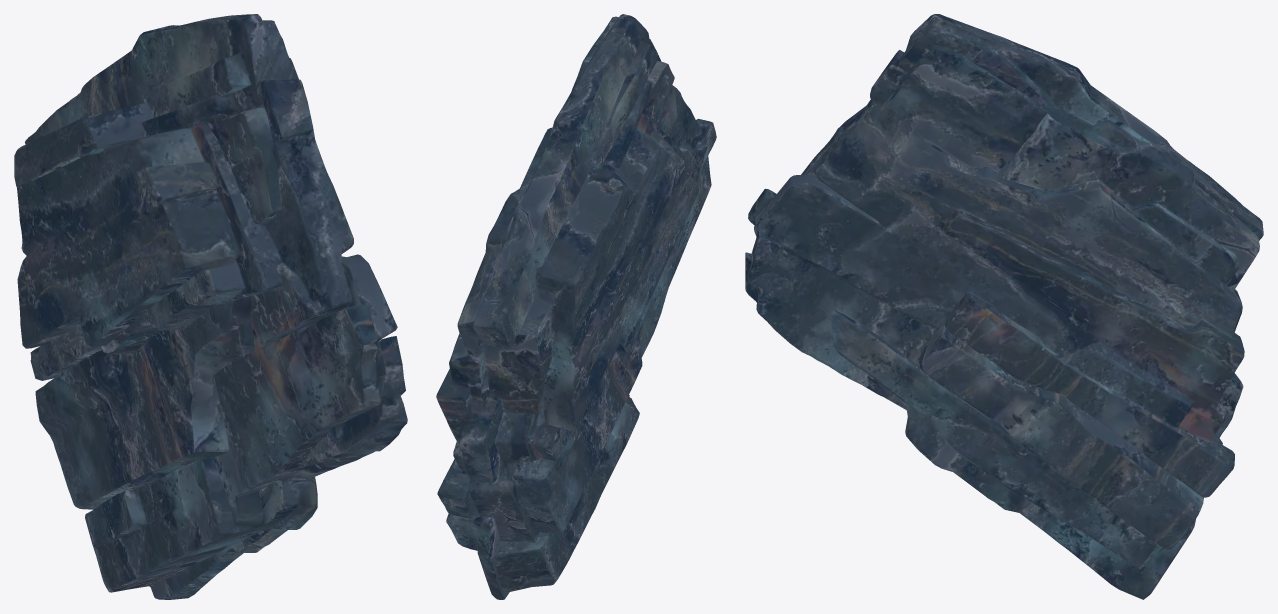
The picture shows the model from 3 angles, left to right: view 1: azimuth 30°, elevation 25°; view 2: azimuth 150°, elevation 25°; view 3: azimuth 270°, elevation 25°; orthographic projection. The views are drawn at different scales.
Parts seen in each view (by area): view 1: SM_Cave_Floor_01_LOD0; view 2: SM_Cave_Floor_01_LOD0; view 3: SM_Cave_Floor_01_LOD0.
Boxes of the visible parts, x1=… form: SM_Cave_Floor_01_LOD0: x1=14, y1=14, x2=407, y2=599; SM_Cave_Floor_01_LOD0: x1=436, y1=14, x2=716, y2=599; SM_Cave_Floor_01_LOD0: x1=745, y1=14, x2=1263, y2=599.
Size of the model in its own units: 2.31 by 9.15 by 7.61.
1 material, 1 textured.
